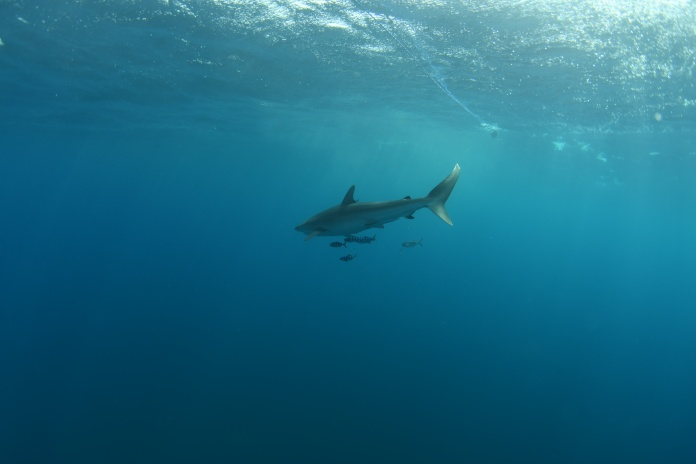Sedoso: (285, 147, 483, 261)
